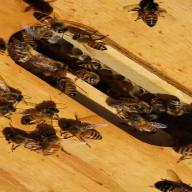Bee: (53, 114, 115, 144), (22, 131, 68, 166), (68, 31, 121, 61), (128, 0, 174, 34), (155, 173, 192, 192), (58, 78, 84, 96)
